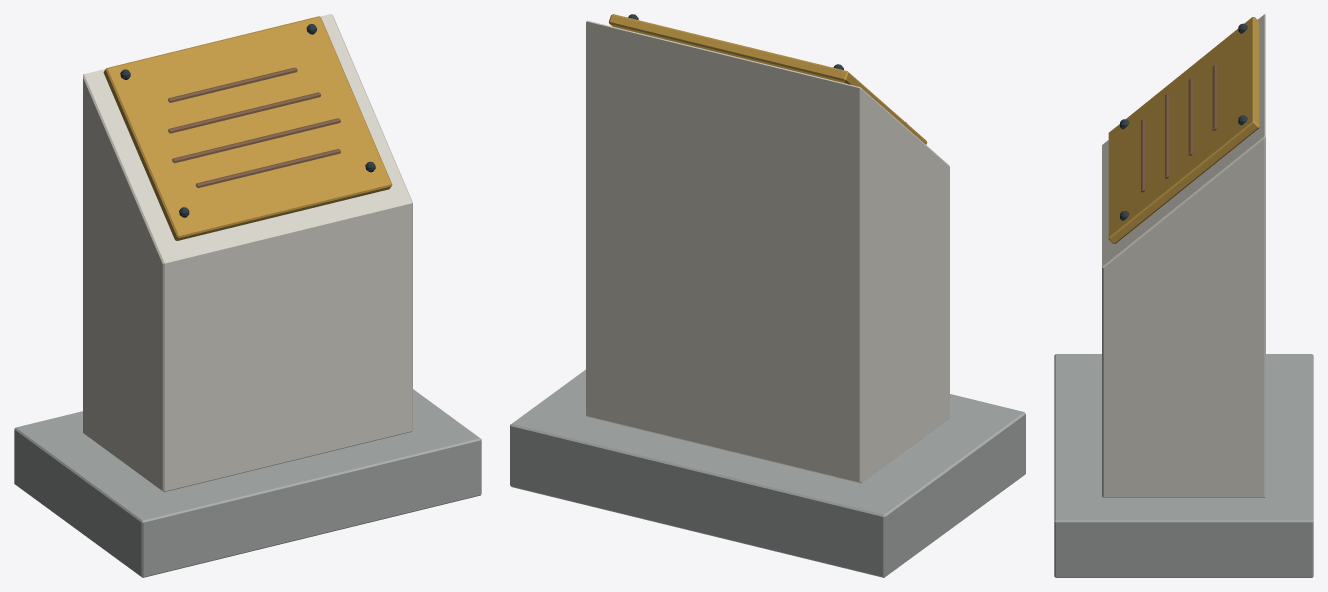
The model's file is b18_sloped_memorial_plaque_pedestal.glb.
3 views of the same model, side by side, from view 1: azimuth 30°, elevation 25°; view 2: azimuth 150°, elevation 25°; view 3: azimuth 270°, elevation 25° (orthographic). The views are drawn at different scales.
Visible parts, largest first — view 1: b18_sloped_memorial_plaque_pedestal; view 2: b18_sloped_memorial_plaque_pedestal; view 3: b18_sloped_memorial_plaque_pedestal.
Boxes of the visible parts, <box> form: b18_sloped_memorial_plaque_pedestal: <box>14,14,481,577</box>; b18_sloped_memorial_plaque_pedestal: <box>510,14,1025,577</box>; b18_sloped_memorial_plaque_pedestal: <box>1054,14,1313,577</box>.
Size of the model in its own units: 0.87 by 1.03 by 0.57.
